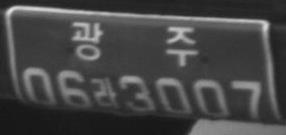0: (156, 76, 193, 116), (20, 65, 56, 106), (194, 78, 229, 118)
3: (120, 74, 155, 112)
6: (57, 69, 92, 109)
7: (229, 79, 262, 121)
광주_D: (71, 20, 199, 67)
라: (92, 75, 119, 111)
